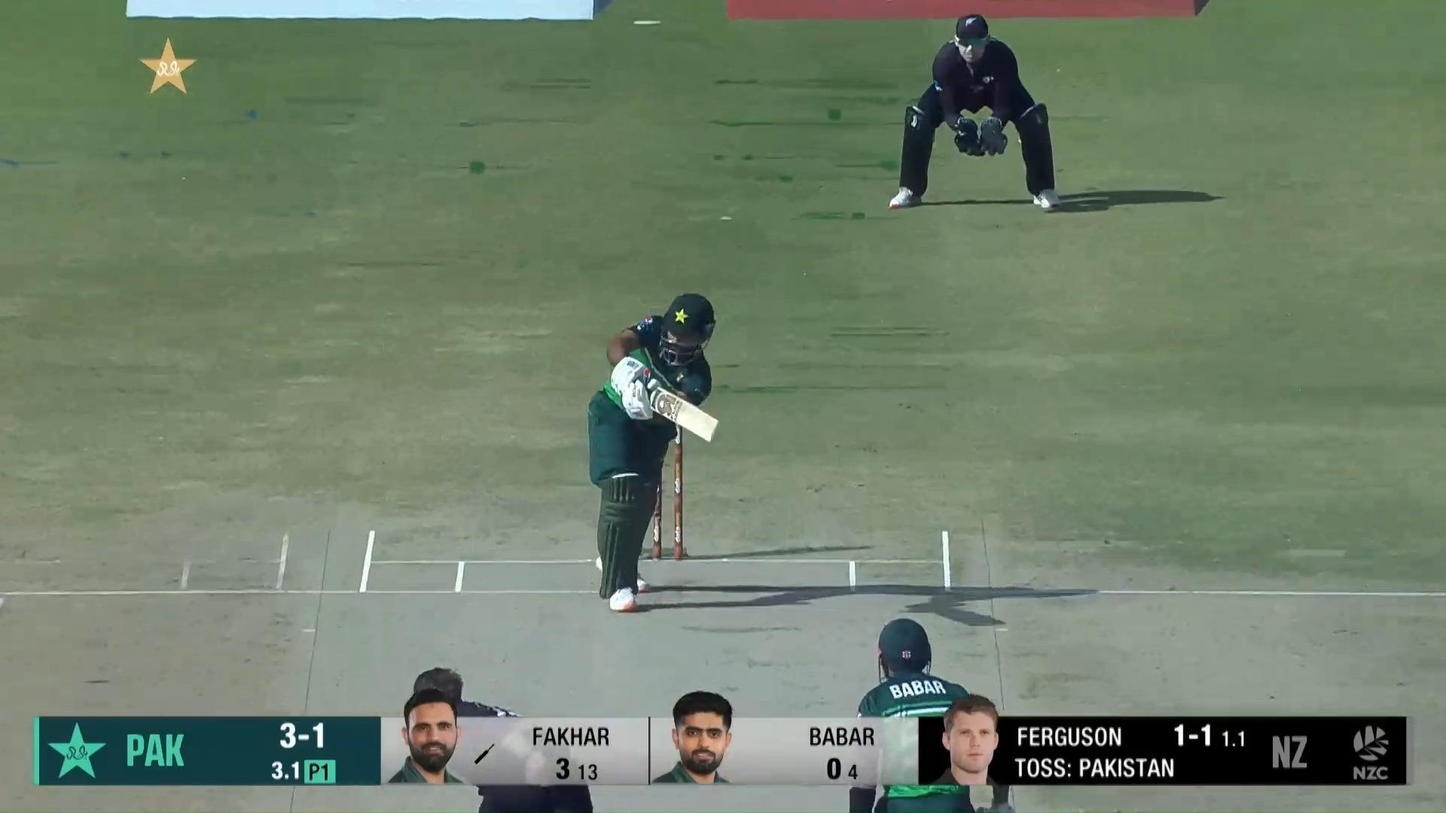BM 1: (588, 291, 722, 612)
BO: (414, 666, 594, 813)
